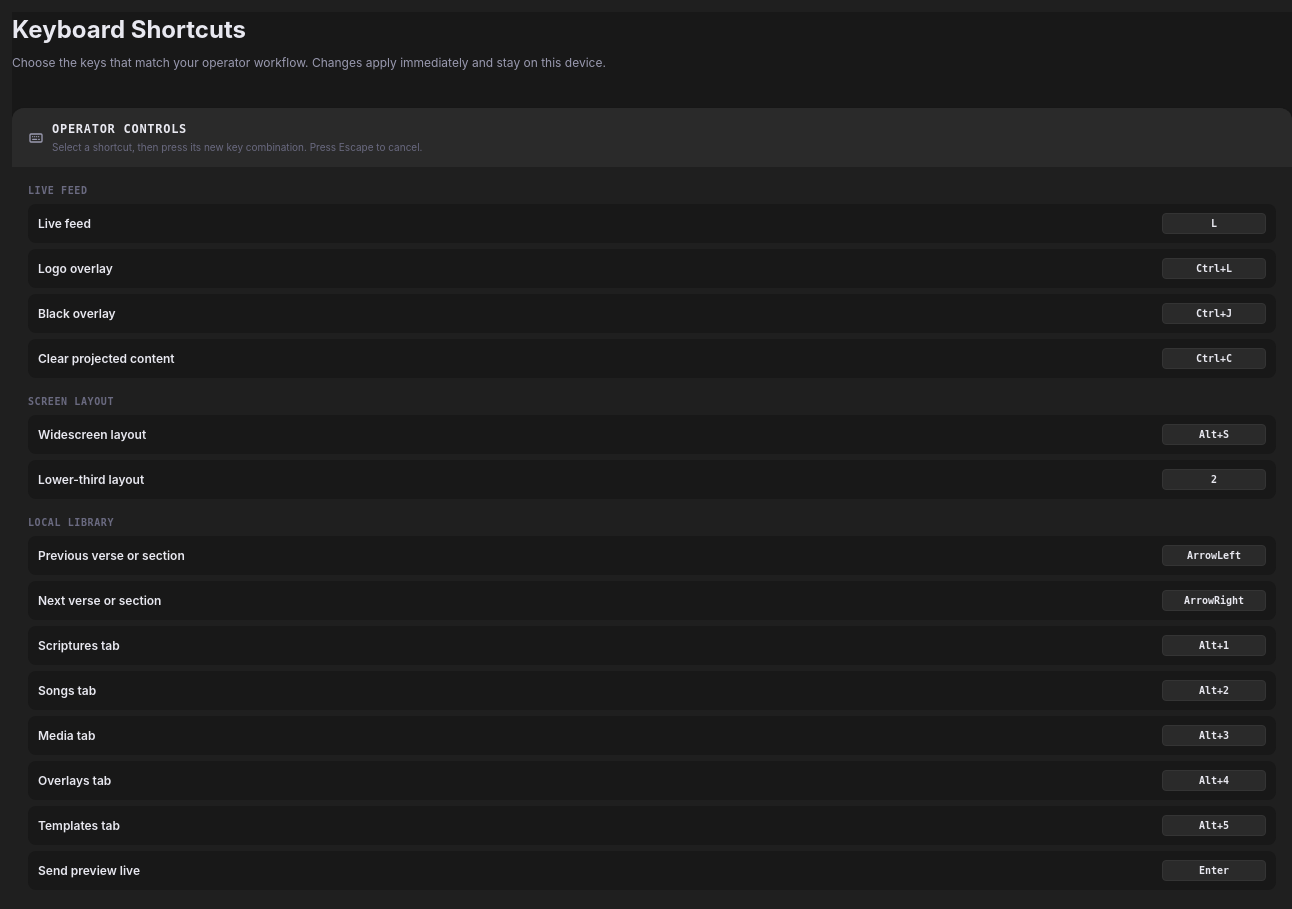
Scenario: shortcut recording › waits for B after Ctrl before saving the black overlay shortcut
This screenshot has width=1292, height=909.
Click the button with aria-label "Change shortcut for Black overlay".
click(1214, 314)  # box [1162,303,1266,324]
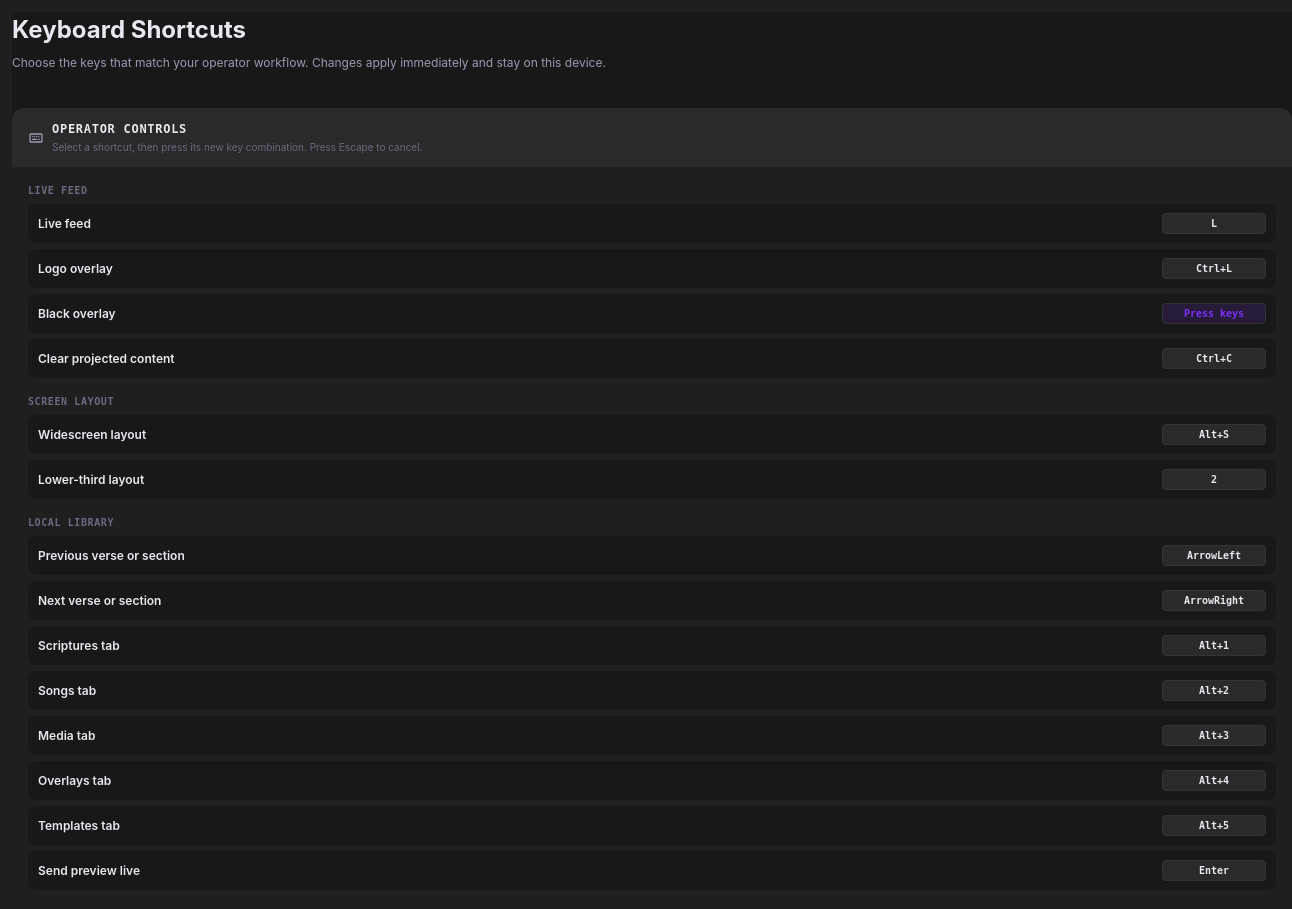
Press Control in the button with aria-label "Change shortcut for Black overlay", box [1162,303,1266,324]
expect the button with aria-label "Change shortcut for Black overlay" reads "Press keys": met
Press b in the button with aria-label "Change shortcut for Black overlay", box [1162,303,1266,324]
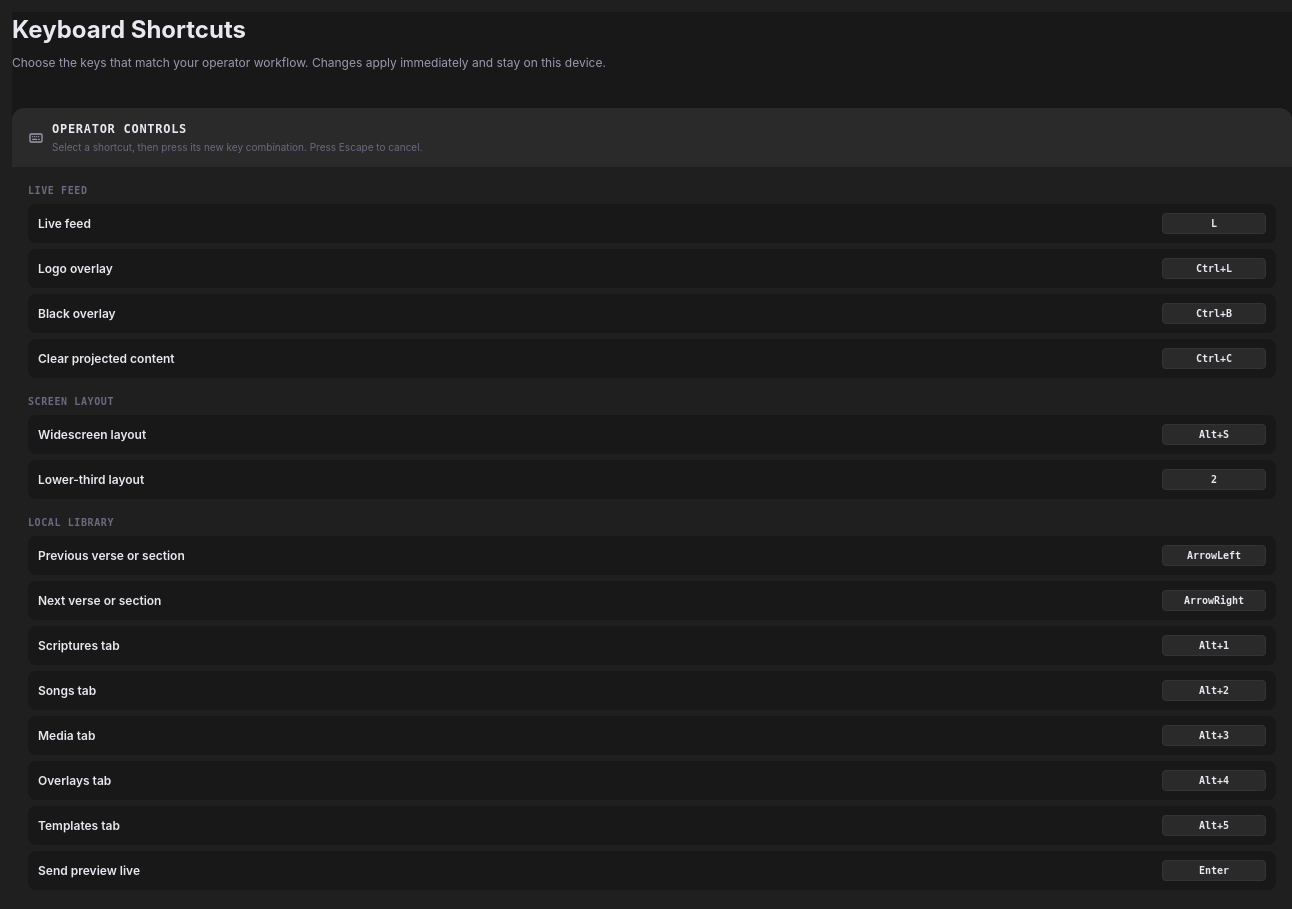
expect the button with aria-label "Change shortcut for Black overlay" reads "Ctrl+B": met, box [1162,303,1266,324]
